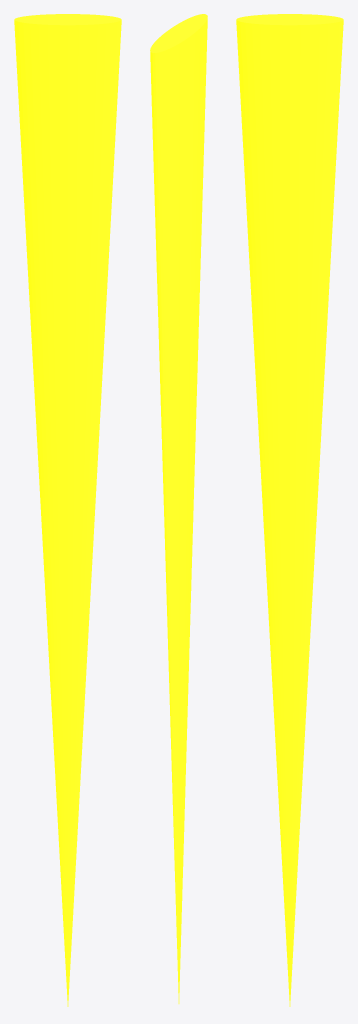
The model's file is lava.fbx.
The picture shows the model from 3 angles, left to right: view 1: azimuth 90°, elevation 25°; view 2: azimuth 150°, elevation 25°; view 3: azimuth 270°, elevation 25°; orthographic projection.
Parts seen in each view (by area): view 1: Cone; view 2: Cone; view 3: Cone.
Part boxes in pixels (x1,y1,x2,y2): Cone: (14, 14, 121, 1006); Cone: (150, 14, 207, 1003); Cone: (236, 14, 343, 1006).
Bounding box in the file's own units: 18.35 × 754 × 74.2.
